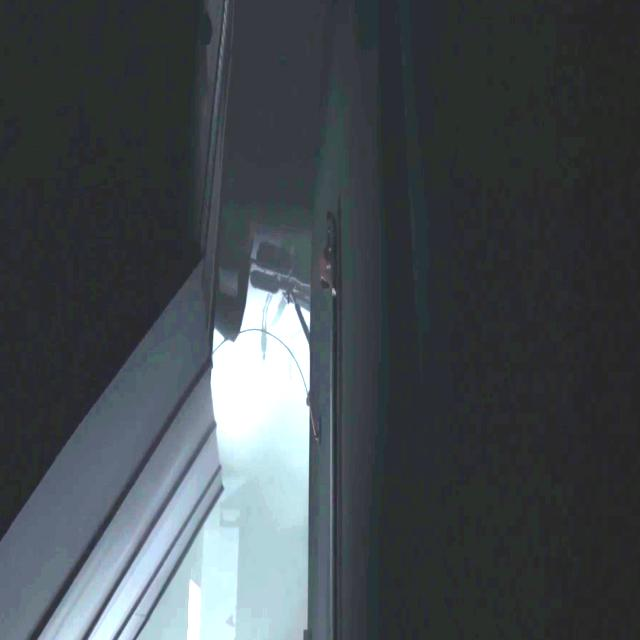boy: (317, 212, 337, 304)
zombie: (261, 310, 268, 361), (237, 333, 244, 372), (288, 336, 294, 379)
